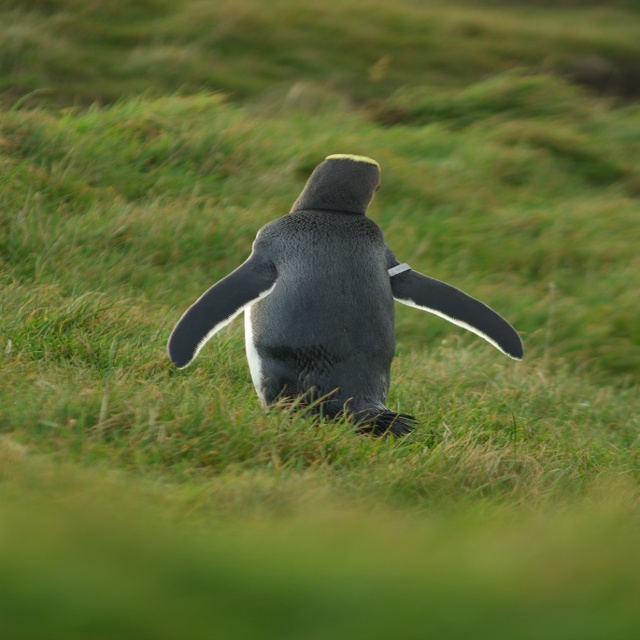Penguin: (167, 154, 524, 439)
